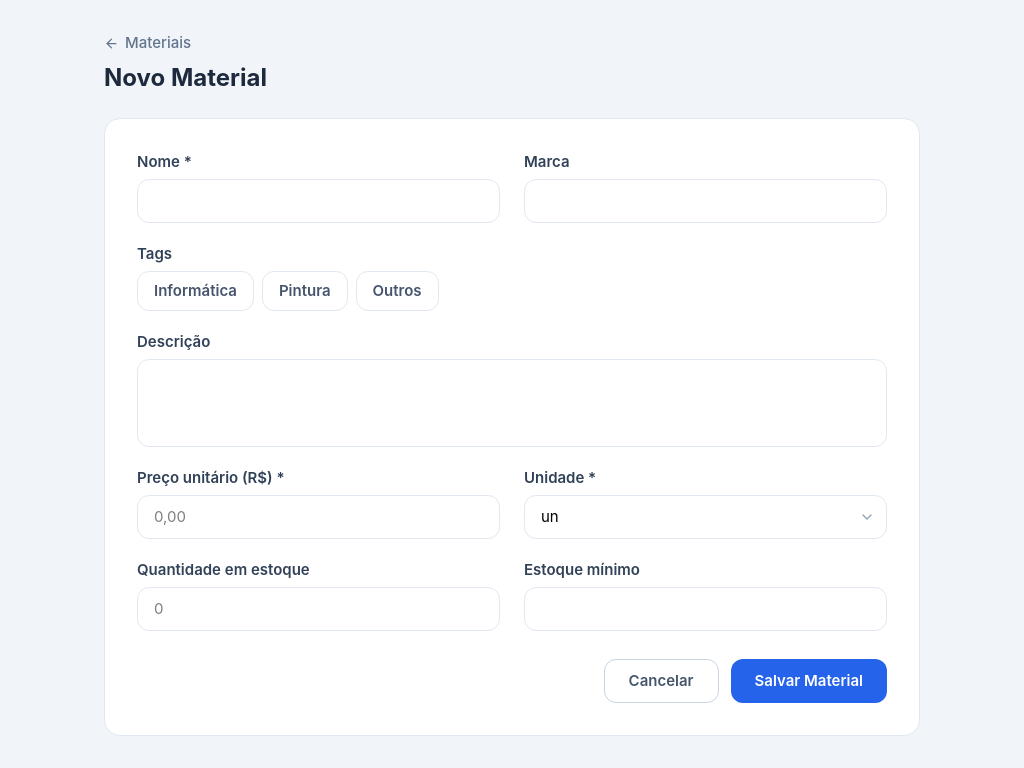
Test: campo de marca do material › só busca marcas depois de começar a digitar
This screenshot has width=1024, height=768.
Type "Gen" into the field below "Marca".
click(706, 201); type("Gen")  # box [524,179,887,223]
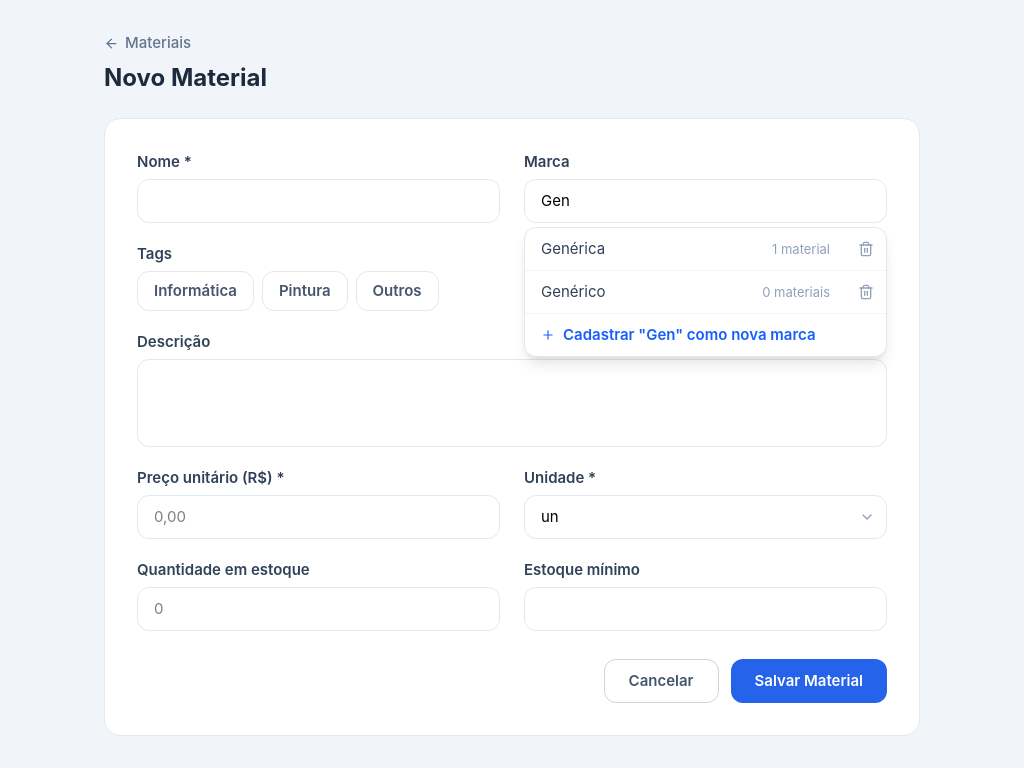
expect the text "Genérica" is shown: met, box [541,238,605,260]
expect the text "Genérico" is shown: met, box [541,281,606,303]
expect the text "1 material" is shown: met, box [772,240,830,258]
